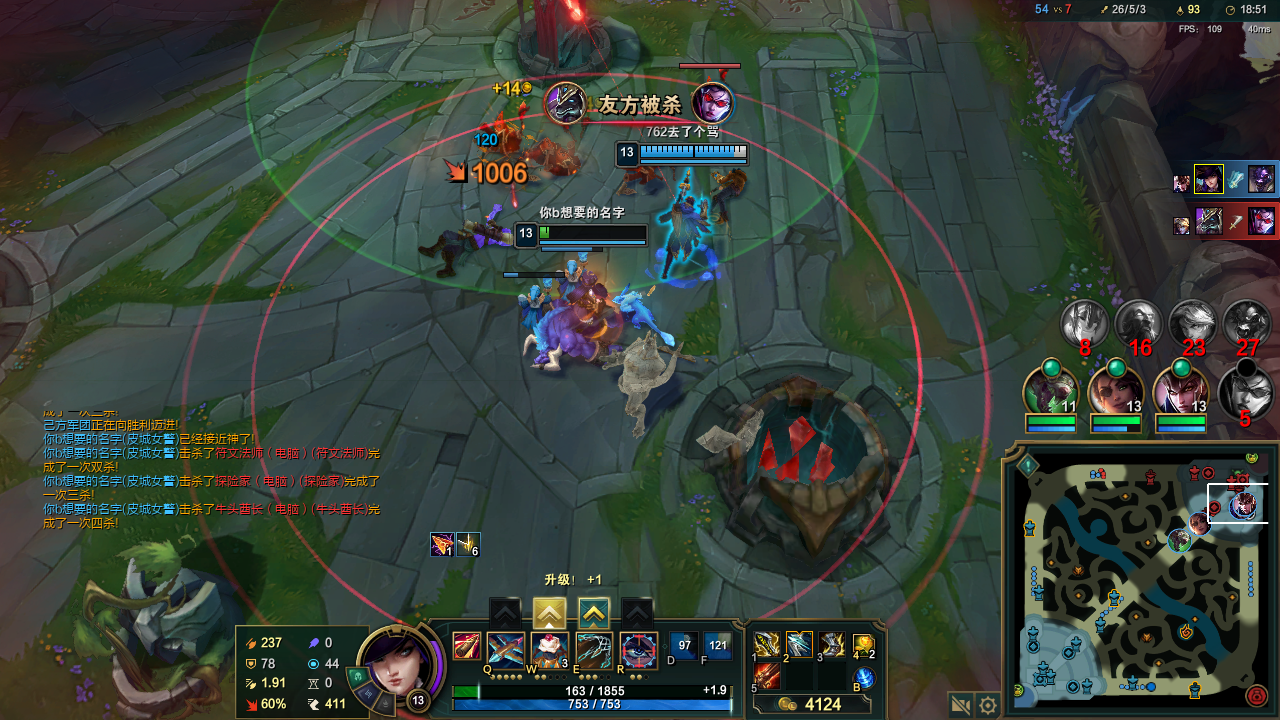KF: (789, 633, 813, 646)
Shenji: (584, 603, 608, 625)
Tuijianshengji: (534, 602, 565, 626)
WFXB: (521, 291, 547, 321)
